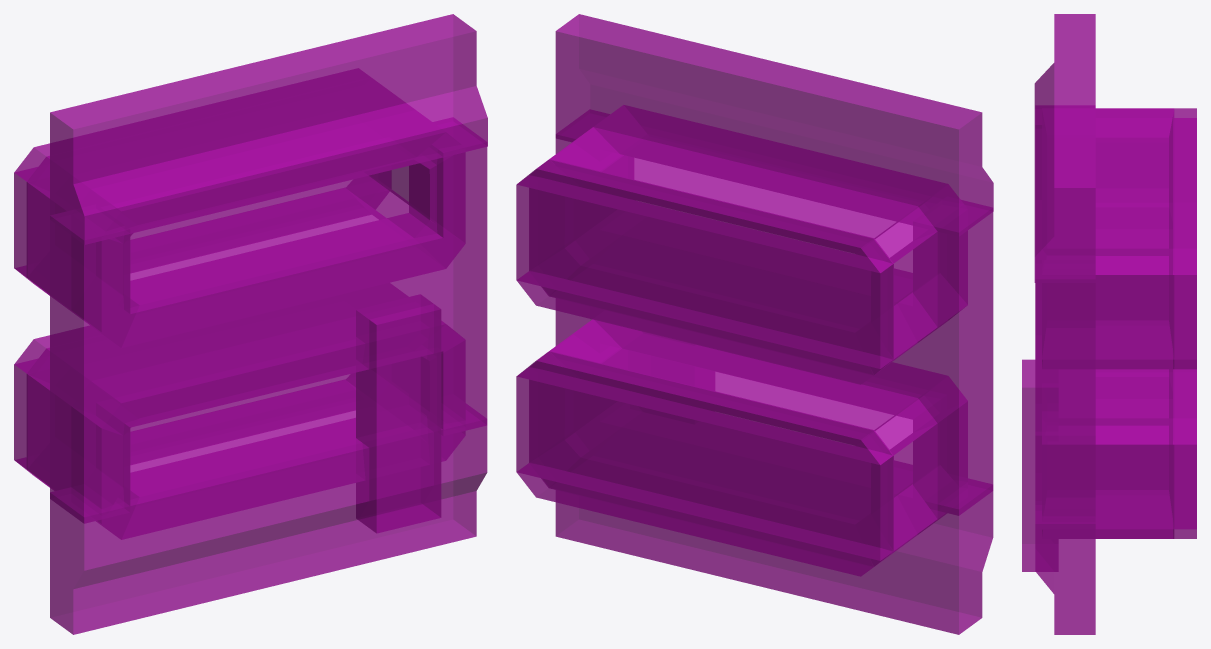
Rendered from SM_Bld_Wall_Alcove_03_Collision.fbx.
3 renders of one model, left to right at view 1: azimuth 30°, elevation 25°; view 2: azimuth 150°, elevation 25°; view 3: azimuth 270°, elevation 25°, orthographic. The views are drawn at different scales.
Visible parts, largest first — view 1: SM_Bld_Wall_Alcove_03_Collision; view 2: SM_Bld_Wall_Alcove_03_Collision; view 3: SM_Bld_Wall_Alcove_03_Collision.
Part boxes in pixels (x1,y1,x2,y2): SM_Bld_Wall_Alcove_03_Collision: (14,14,487,634); SM_Bld_Wall_Alcove_03_Collision: (516,14,993,634); SM_Bld_Wall_Alcove_03_Collision: (1022,14,1196,634).
Bounding box in the file's own units: 252 × 302 × 107.
